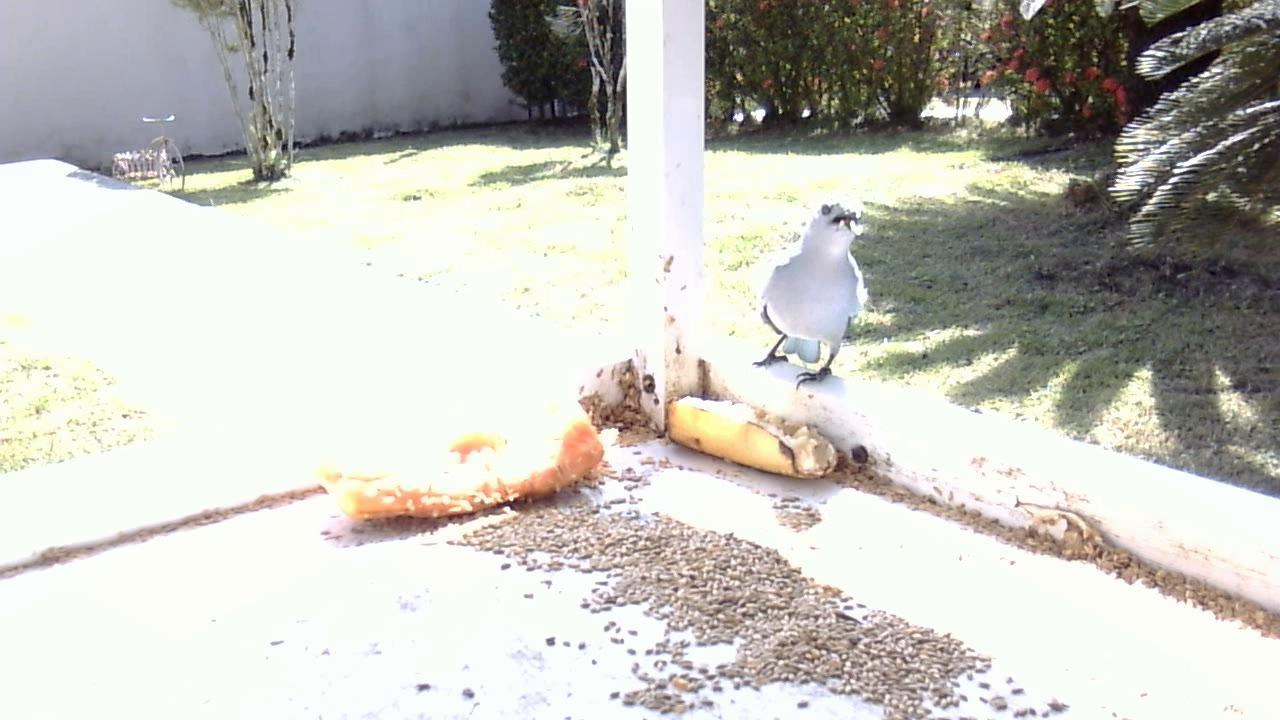sanhaco_da_amazonia: (747, 204, 868, 389)
